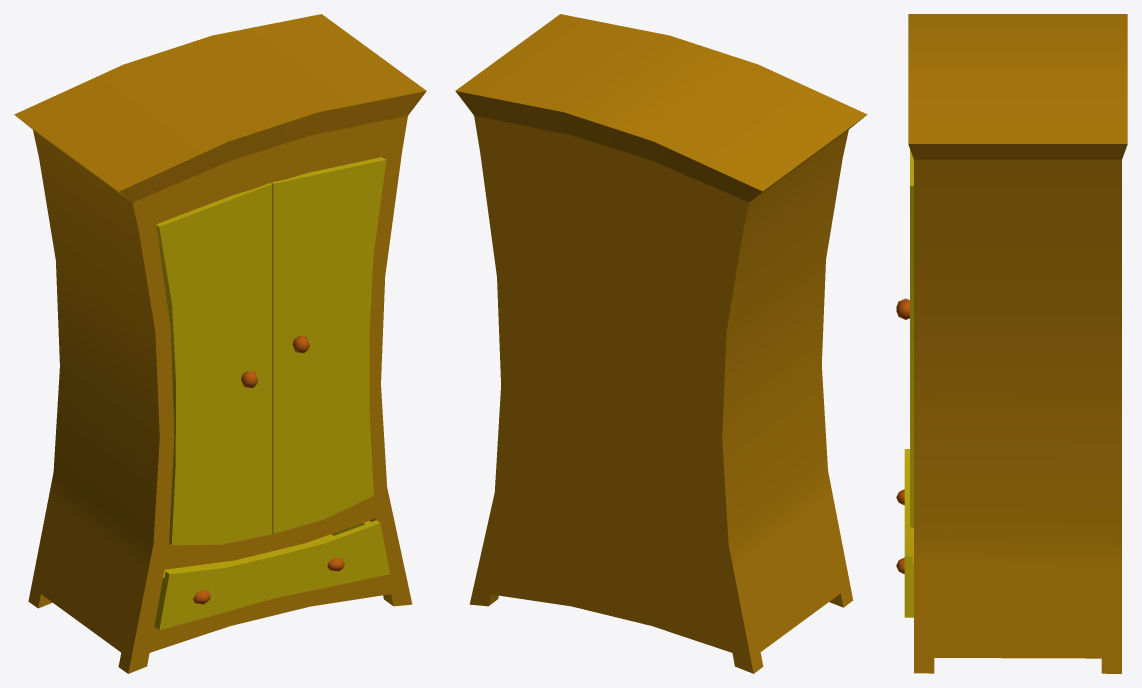
Rendered from closet.fbx.
The picture shows the model from 3 angles, left to right: view 1: azimuth 30°, elevation 25°; view 2: azimuth 150°, elevation 25°; view 3: azimuth 270°, elevation 25°; orthographic projection. The views are drawn at different scales.
Parts seen in each view (by area): view 1: base, R_cabinet, L_cabinet, drawer; view 2: base; view 3: base, L_cabinet, drawer.
Part boxes in pixels (x1=…): base: x1=14, y1=14, x2=426, y2=673; R_cabinet: x1=156, y1=183, x2=272, y2=545; L_cabinet: x1=271, y1=157, x2=386, y2=533; drawer: x1=154, y1=520, x2=390, y2=630; base: x1=455, y1=14, x2=867, y2=673; base: x1=908, y1=14, x2=1127, y2=673; L_cabinet: x1=896, y1=149, x2=913, y2=527; drawer: x1=896, y1=449, x2=913, y2=617.
Bounding box in the file's own units: 135 × 218 × 84.51.
